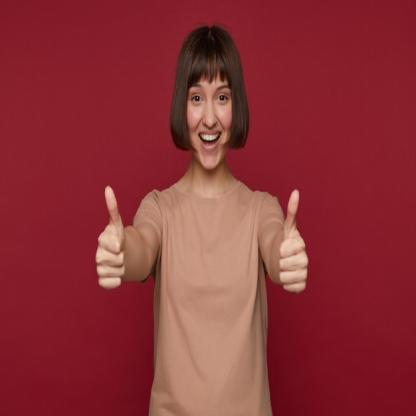thumb_up: (276, 184, 312, 296), (92, 181, 128, 292)
